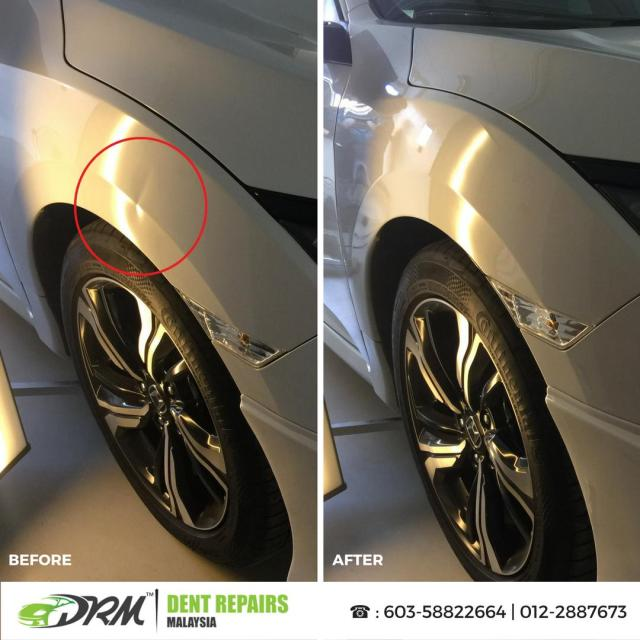dent: (118, 162, 162, 247)
